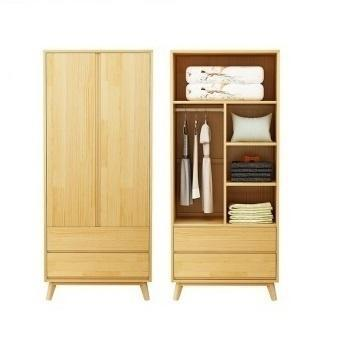Armario: (164, 44, 284, 304), (38, 46, 157, 302)
